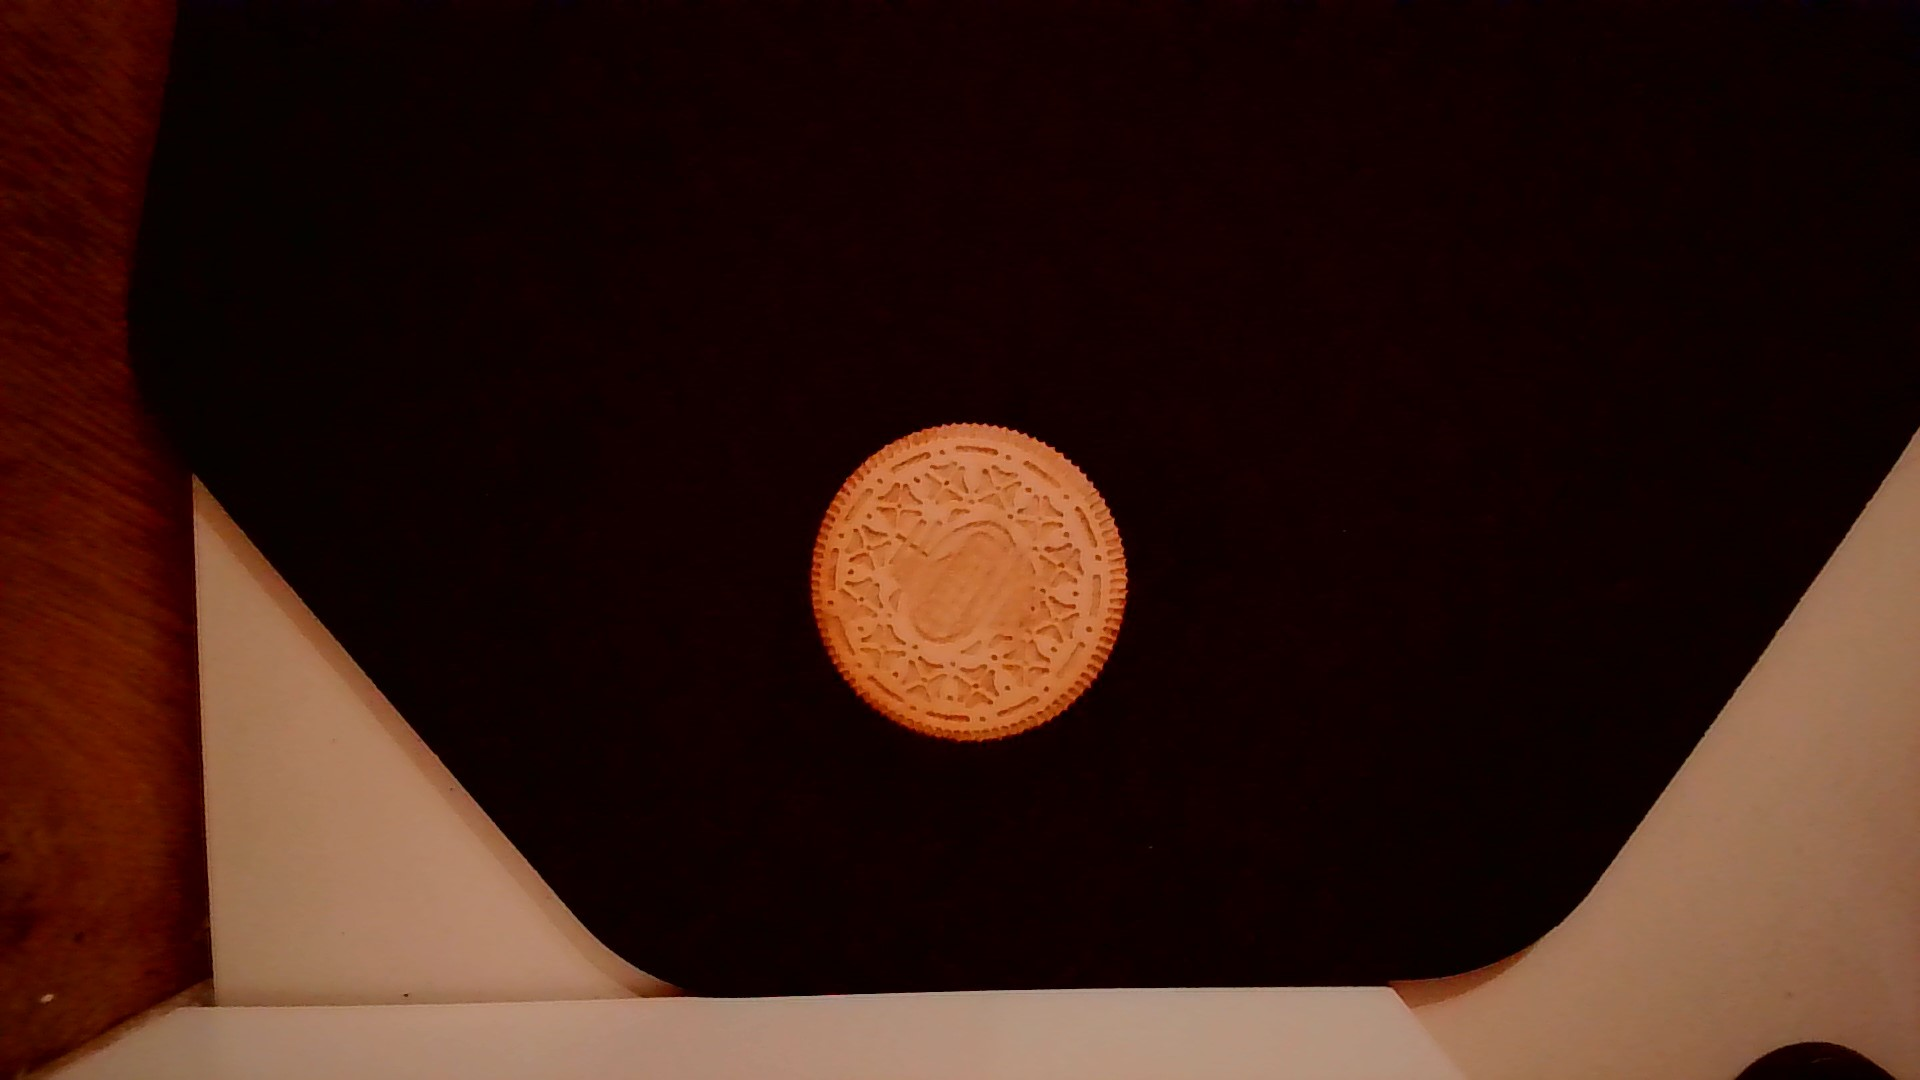Effacé: (911, 524, 1036, 636)
Oréo: (800, 409, 1135, 752)
